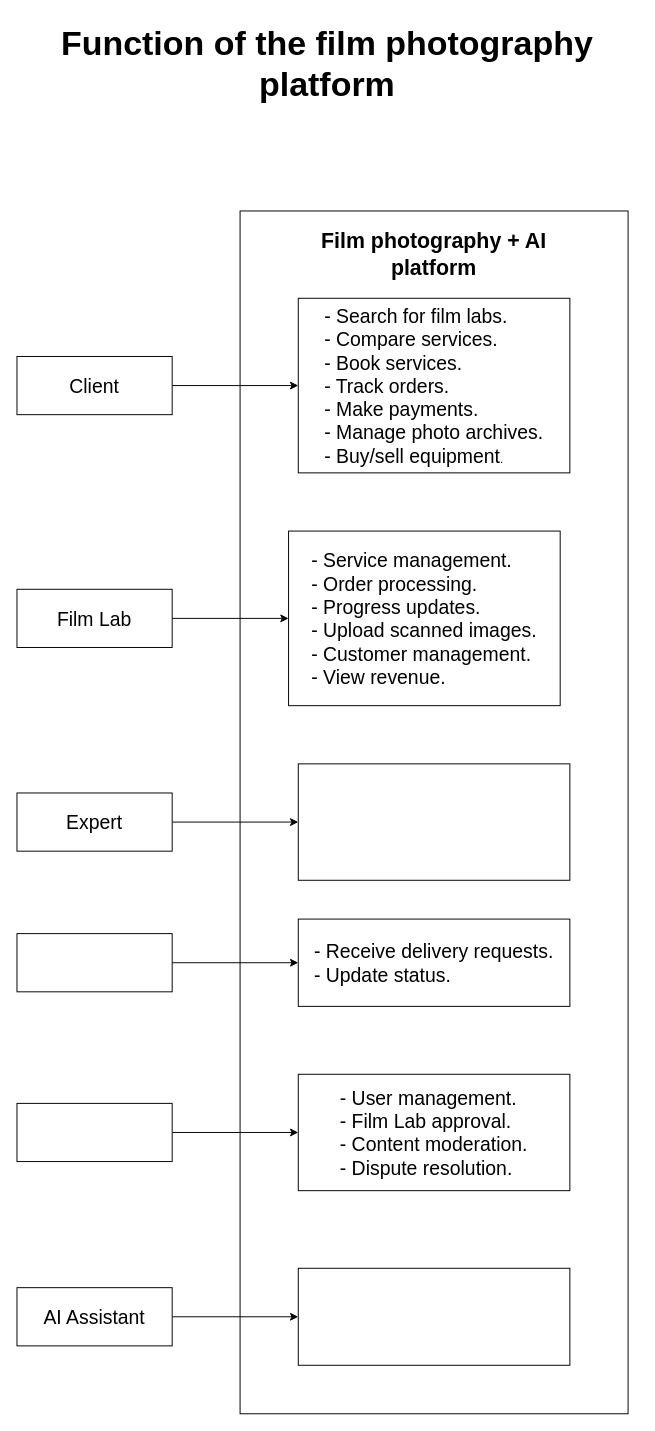
This 655x1431 diagram has some shape labels left out. The box of each missing label's shape, as (x1, y1, x2, y2) in pixels:
- Publish posts. - Share knowledge. - Review equipment.: (297, 763, 570, 880)
- Recommend a film lab. - Recommend a film type. - Answer questions.: (297, 1267, 570, 1365)
Admin: (16, 1102, 172, 1162)
Delivery partner: (16, 933, 172, 992)
